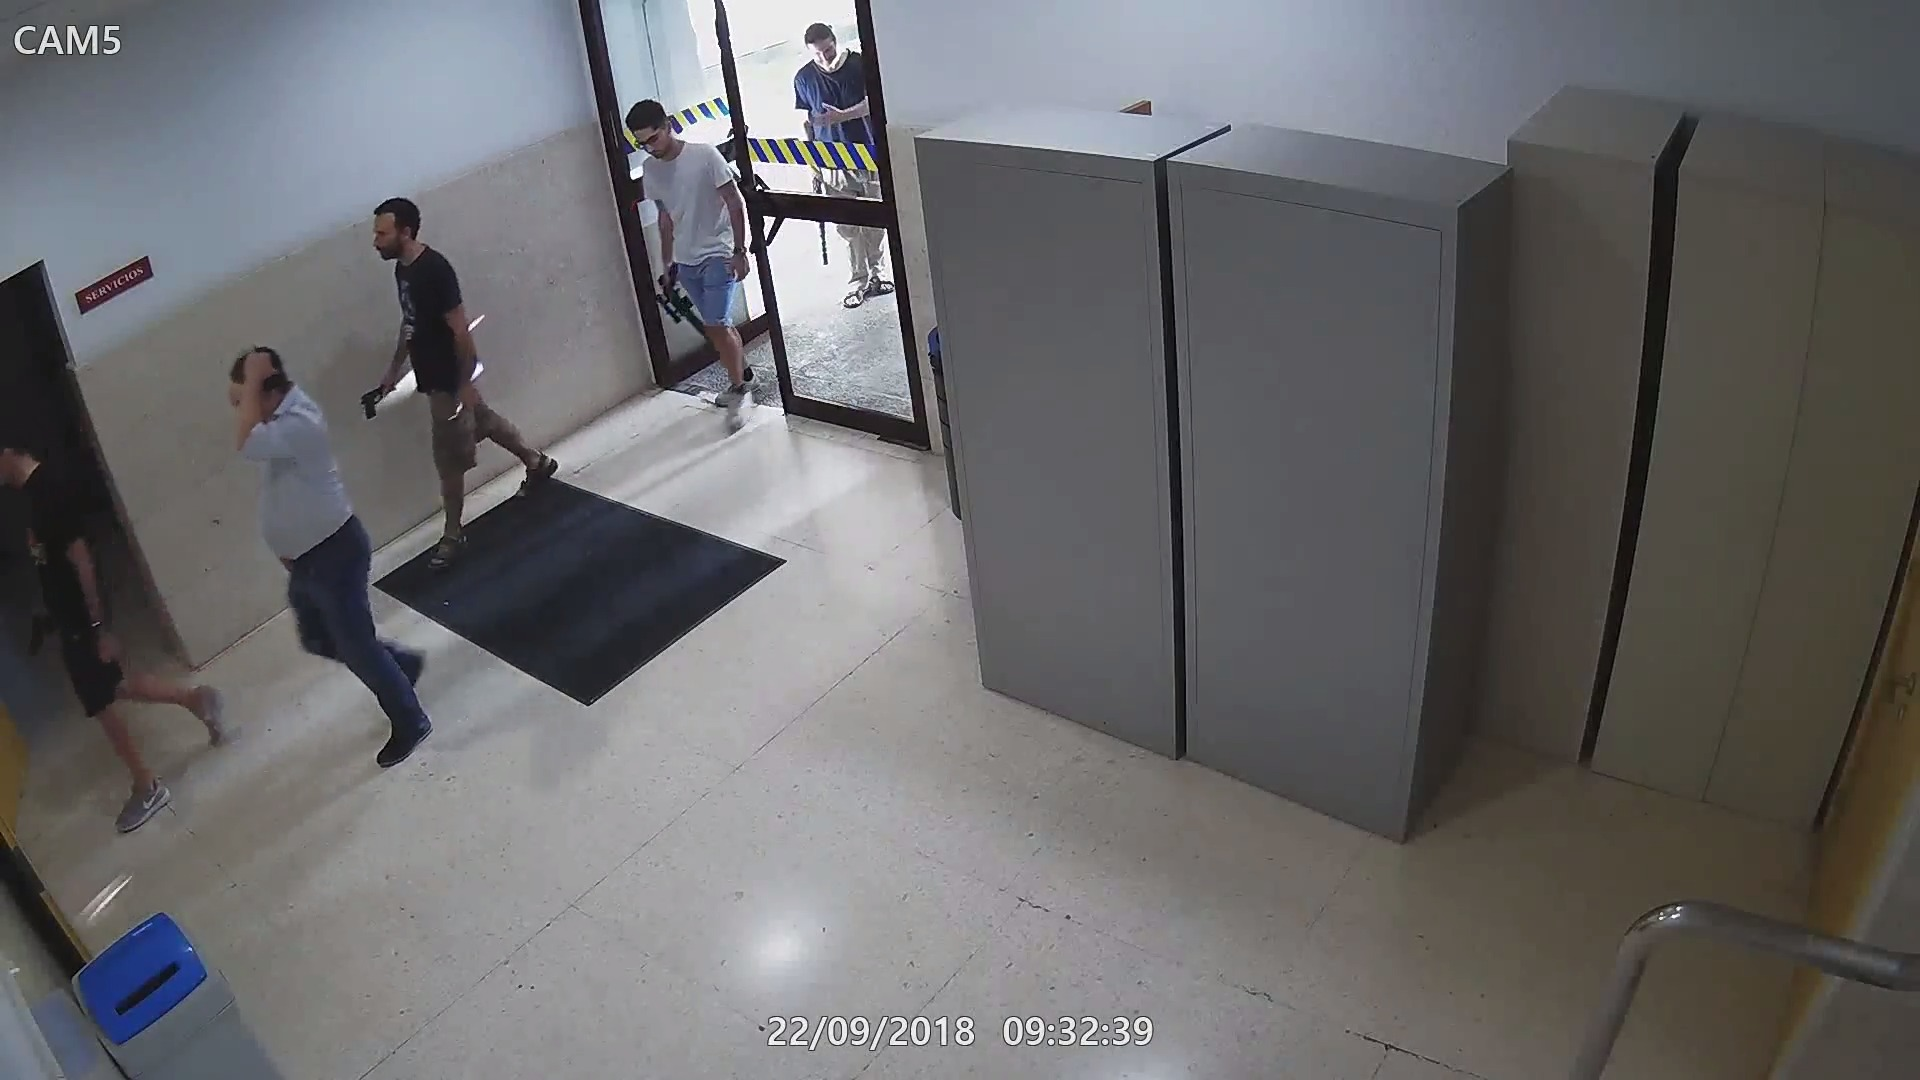Handgun: (25, 605, 58, 666), (353, 378, 404, 417)
Short_rifle: (655, 265, 713, 345), (807, 165, 835, 269)
